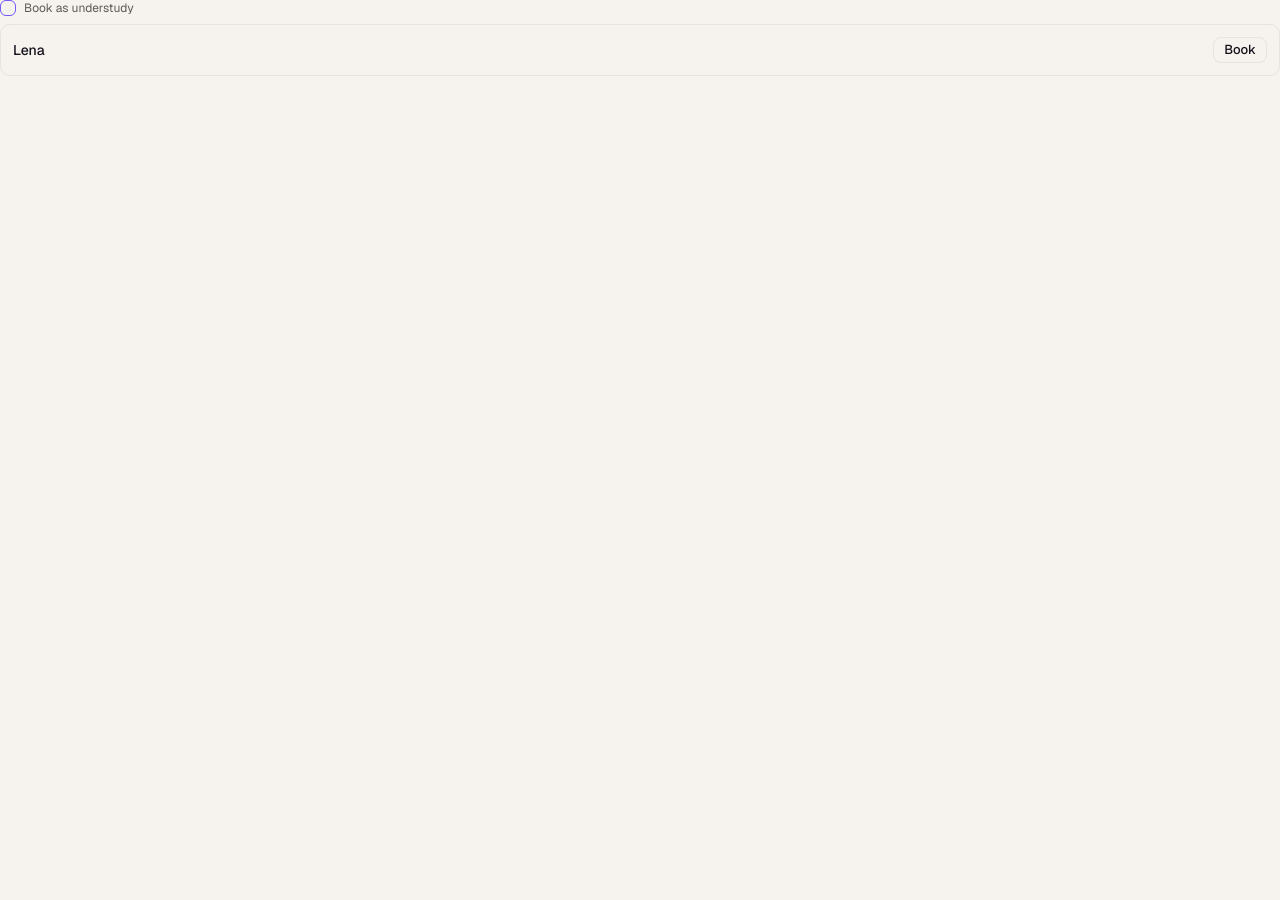
EligibilityBookList › books as understudy when the checkbox is checked
The width and height of the screenshot is (1280, 900).
Later steps or results of the test are not shown.
Click the checkbox at (8, 8), box [0,0,16,16]
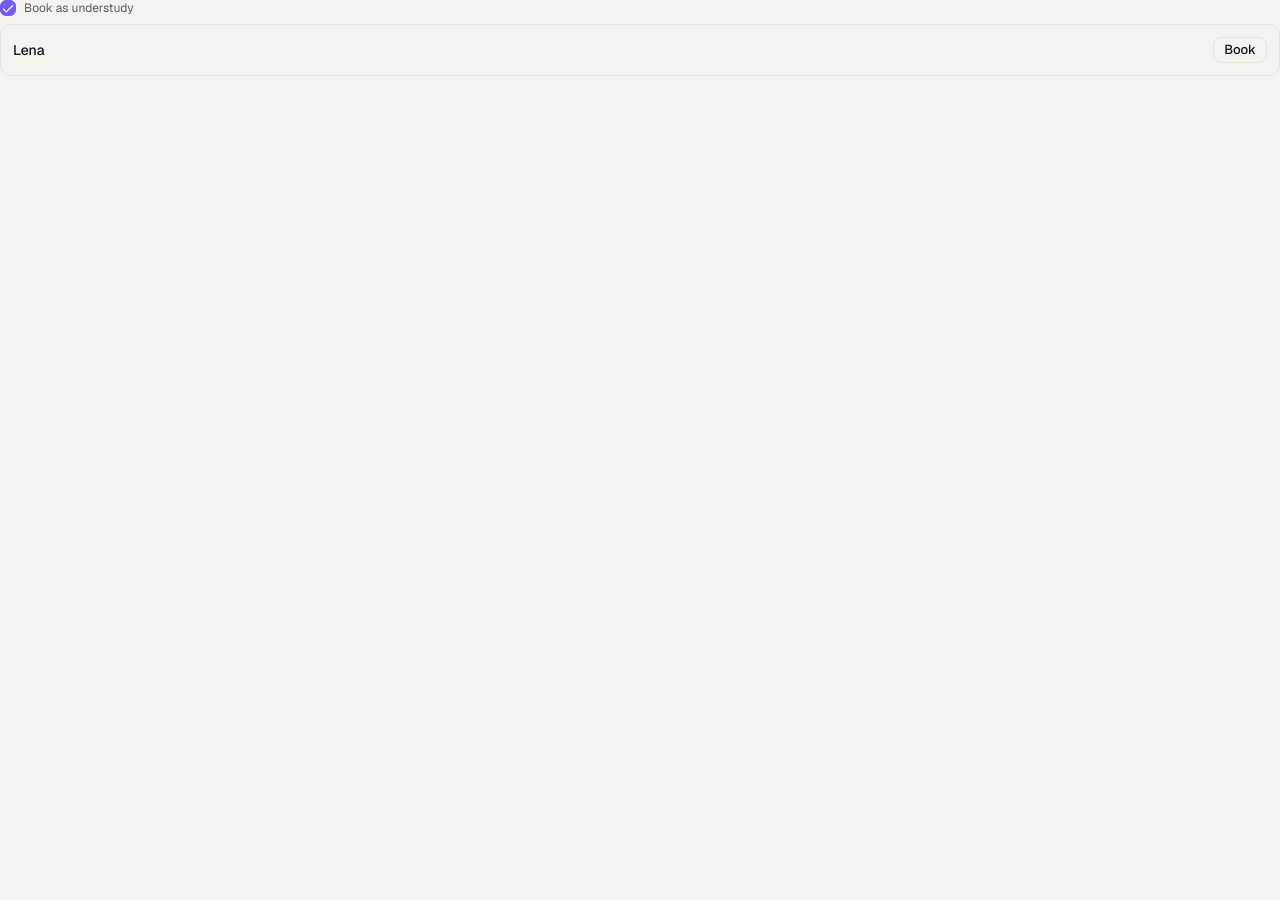
Click the button "Book" at (1240, 50), box [1213,37,1267,63]
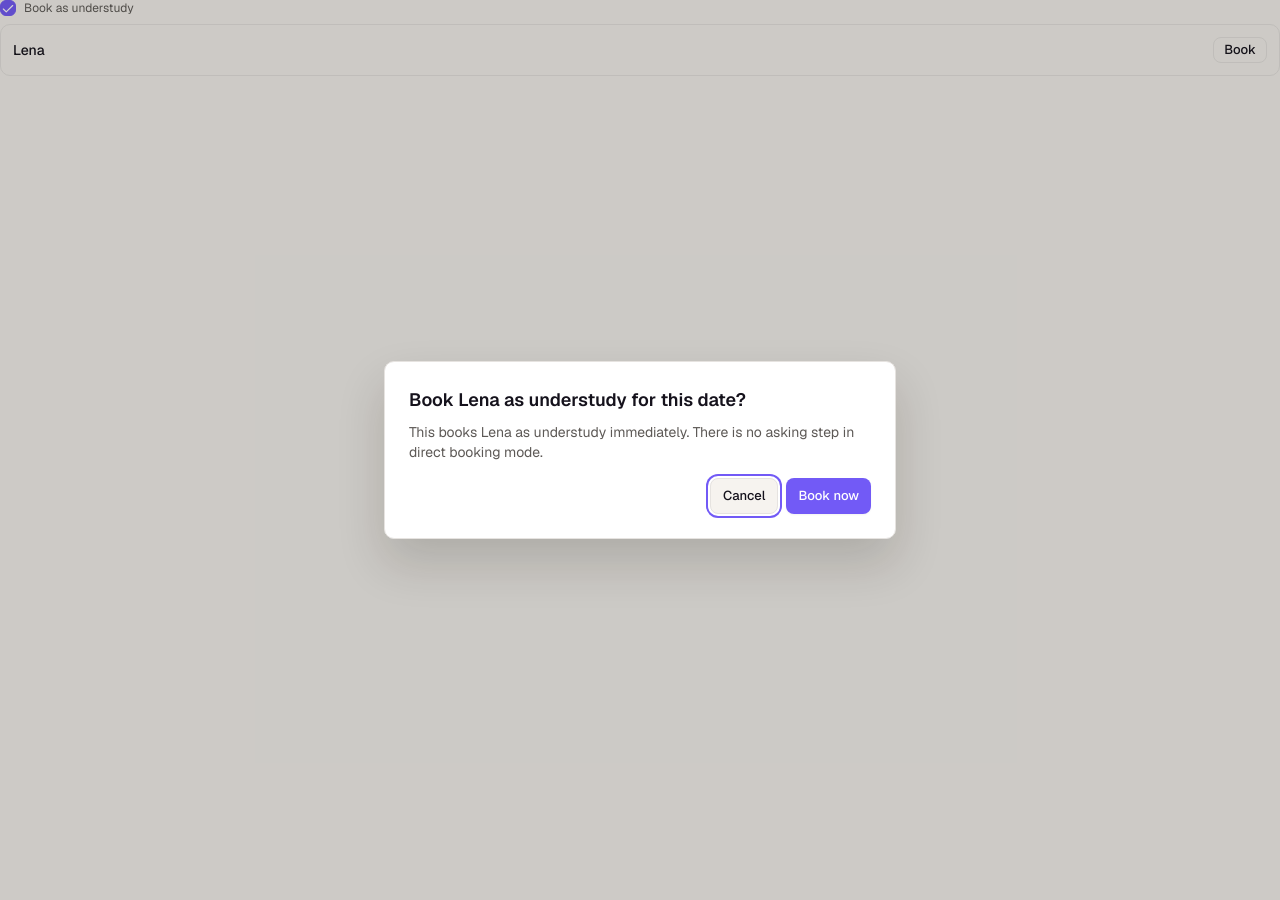
Check: the heading "Book Lena as understudy for this date?" is shown, box [409,388,746,411]
Check: the text "This books Lena as understudy immediately. There is no asking step in direct booking mode." is shown, box [409,423,854,461]
